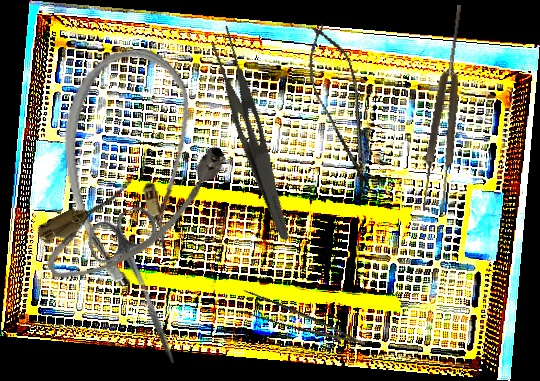Cannula: (51, 43, 215, 292), (29, 133, 246, 294)
Dressing Forceps: (196, 22, 314, 243)
Iris Scissors: (81, 202, 209, 376)
Micro Scissor: (296, 18, 389, 201)
Tissue Forceps: (418, 3, 475, 214), (234, 285, 366, 366)
